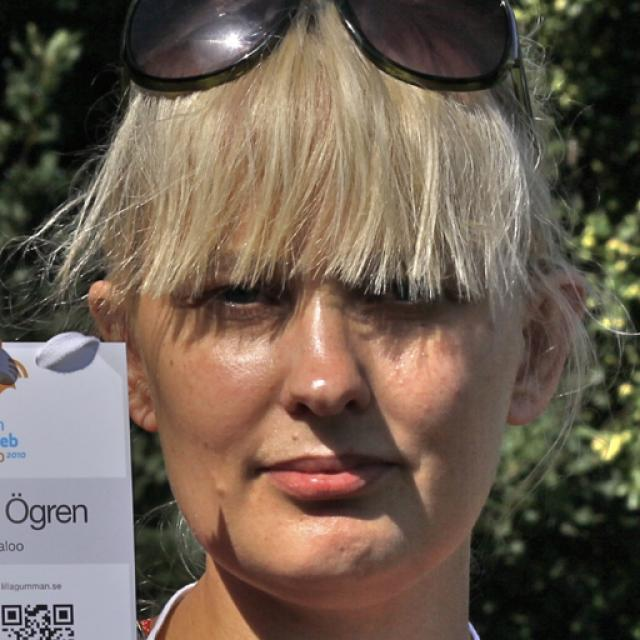content: (149, 151, 510, 584)
